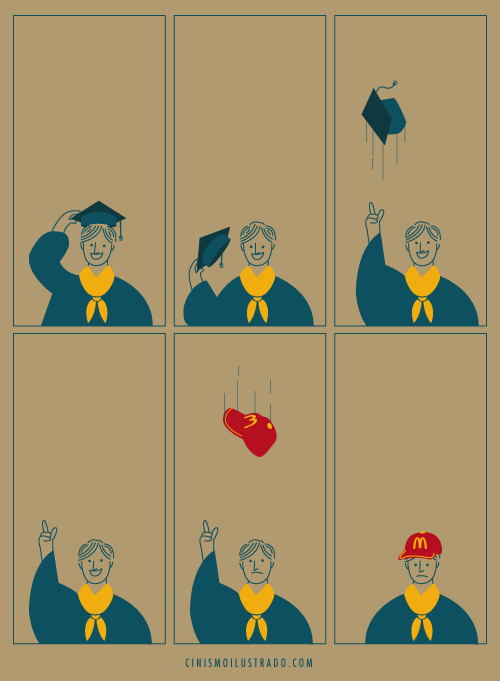mcdonalds: (407, 530, 430, 558)
